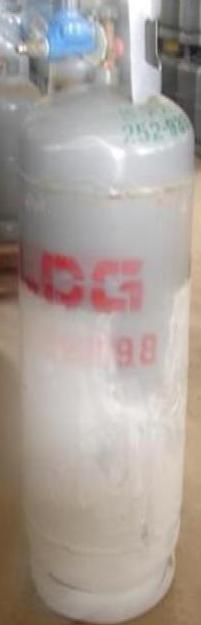cylinder: (0, 1, 201, 625)
